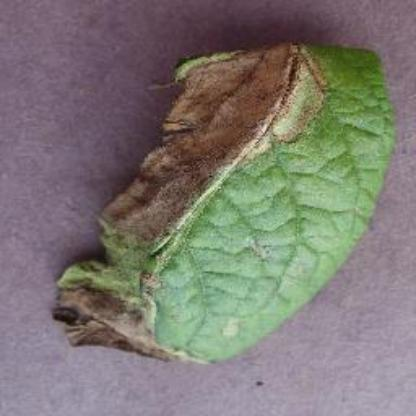Late-Blight: (38, 31, 398, 372)
